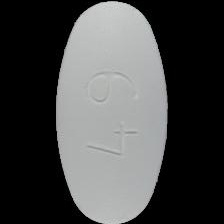0615-7662: (0, 0, 224, 224)
